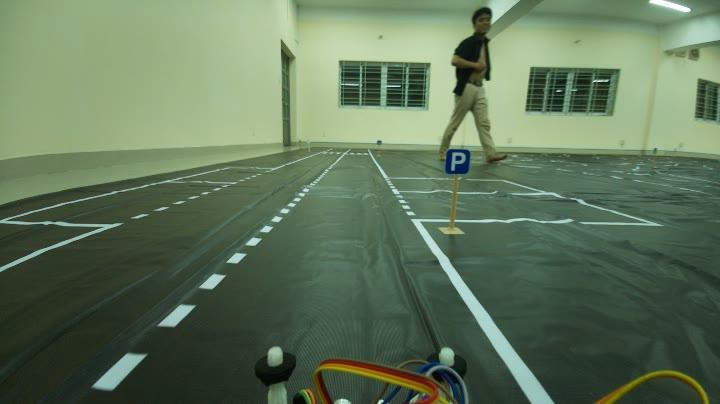parking: (440, 144, 472, 176)
